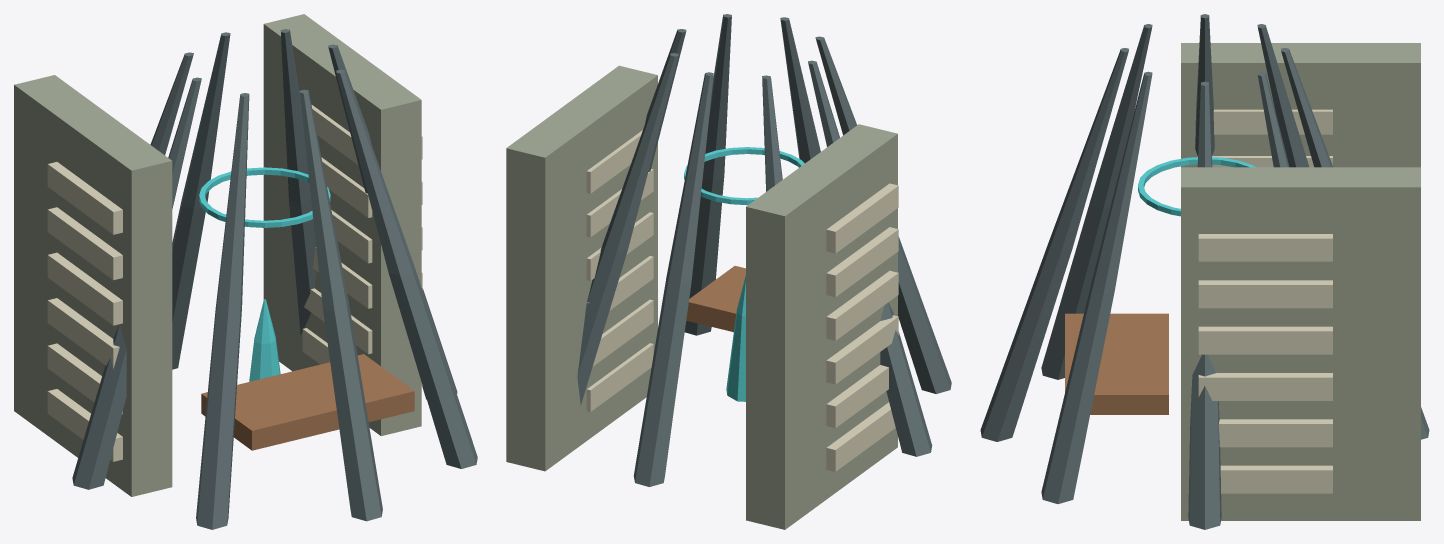
Rendered from root_archive.fbx.
The picture shows the model from 3 angles, left to right: view 1: azimuth 30°, elevation 25°; view 2: azimuth 150°, elevation 25°; view 3: azimuth 270°, elevation 25°; orthographic projection. The views are drawn at different scales.
Visible parts, largest first — view 1: archive_shelf_-1, archive_shelf_1, archive_root_5, archive_root_6, archive_root_7, archive_desk, archive_root_2, archive_root_4, archive_root_1, archive_record_-1_3, archive_record_-1_4, archive_record_-1_5 (+13 smaller); view 2: archive_shelf_-1, archive_shelf_1, archive_root_2, archive_root_1, archive_root_7, archive_root_5, archive_root_4, archive_desk, archive_root_6, archive_record_-1_5, archive_record_-1_3, archive_record_-1_4 (+13 smaller); view 3: archive_shelf_1, archive_shelf_-1, archive_root_7, archive_root_6, archive_desk, archive_root_5, archive_root_0, archive_record_1_3, archive_record_1_4, archive_record_1_5, archive_record_1_2, archive_record_1_1 (+8 smaller).
Boxes of the visible parts, box(x1,y1,x2,y2) form: archive_shelf_-1: box(14, 75, 172, 496); archive_shelf_1: box(263, 14, 421, 436); archive_root_5: box(196, 93, 249, 529); archive_root_6: box(299, 89, 382, 521); archive_root_7: box(336, 69, 477, 468); archive_desk: box(201, 354, 414, 450); archive_root_2: box(172, 32, 230, 369); archive_root_4: box(72, 77, 201, 489); archive_root_1: box(280, 29, 316, 335); archive_record_-1_3: box(47, 252, 122, 325); archive_record_-1_4: box(47, 207, 122, 280); archive_record_-1_5: box(47, 162, 122, 234); archive_shelf_-1: box(746, 124, 897, 529); archive_shelf_1: box(506, 65, 657, 471); archive_root_2: box(633, 72, 713, 486); archive_root_1: box(577, 53, 678, 405); archive_root_7: box(684, 14, 731, 335); archive_root_5: box(815, 36, 951, 393); archive_root_4: box(808, 60, 932, 456); archive_desk: box(686, 266, 745, 332); archive_root_6: box(780, 17, 820, 163); archive_record_-1_5: box(826, 183, 898, 253); archive_record_-1_3: box(826, 270, 898, 340); archive_record_-1_4: box(826, 227, 898, 297); archive_shelf_1: box(1181, 167, 1420, 520); archive_shelf_-1: box(1181, 43, 1420, 167); archive_root_7: box(1041, 71, 1152, 503); archive_root_6: box(980, 48, 1128, 441); archive_desk: box(1065, 313, 1168, 414); archive_root_5: box(1041, 24, 1152, 379); archive_root_0: box(1188, 81, 1221, 529); archive_record_1_3: box(1198, 326, 1332, 354); archive_record_1_4: box(1198, 280, 1332, 308); archive_record_1_5: box(1198, 234, 1332, 261); archive_record_1_2: box(1198, 373, 1332, 400); archive_record_1_1: box(1218, 419, 1332, 447).
Size of the model in its own units: 283 by 275 by 281.
